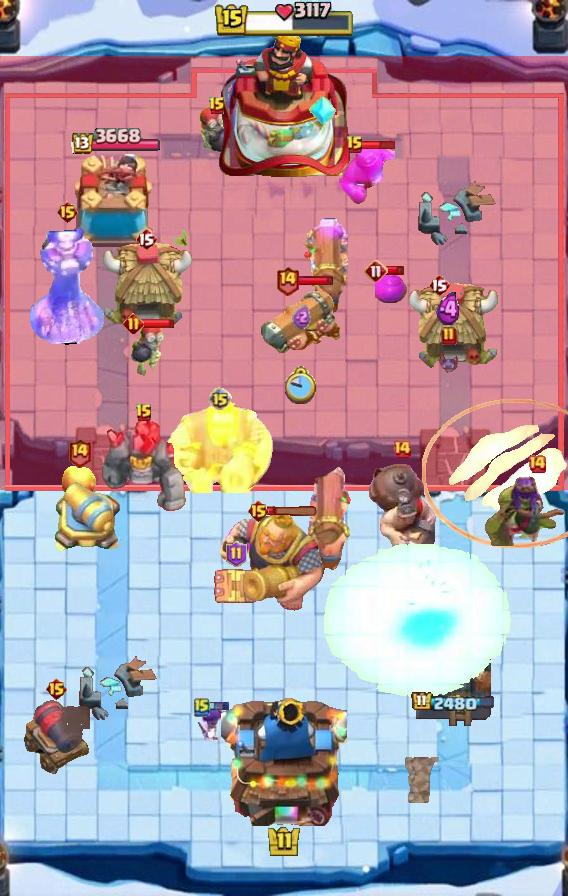barbarian-barrel: (437, 350, 461, 374)
barbarian-hut: (478, 474, 568, 546)
battle-healer: (261, 285, 341, 357), (306, 459, 354, 573), (303, 218, 349, 322)
cannoneer-tower: (101, 418, 187, 514)
clock: (213, 0, 355, 40)
electro-dragon: (28, 223, 106, 351)
electro-spirit: (436, 293, 462, 327), (292, 305, 312, 329)
elixir: (285, 366, 319, 404)
emote: (267, 507, 319, 518), (297, 274, 335, 286), (362, 139, 398, 151), (141, 318, 175, 329), (208, 700, 230, 711), (386, 264, 406, 275)
fisherman: (402, 757, 440, 803)
giant-skeleton: (215, 511, 328, 615), (165, 399, 275, 493)
goblin: (195, 703, 227, 743)
goblin-brawler: (212, 565, 260, 609)
hog: (62, 462, 96, 500)
ice-golem: (130, 323, 166, 377), (197, 106, 237, 154)
ice-wizard: (422, 399, 568, 549)
king-tower: (218, 27, 350, 181), (221, 690, 347, 826)
mega-knight: (319, 539, 516, 700)
miner: (375, 273, 407, 303)
pad_2: (309, 93, 337, 127)
prince: (99, 241, 193, 331), (408, 281, 502, 371)
queen-tower: (66, 154, 162, 256)
royal-giant-evolution: (22, 700, 90, 774)
royal-recruit: (52, 481, 126, 557)
selected: (68, 127, 159, 156), (412, 690, 497, 714)
text: (67, 436, 92, 467), (275, 265, 300, 295), (364, 259, 388, 283), (208, 387, 232, 411), (225, 541, 247, 567), (56, 200, 79, 224), (246, 499, 269, 523), (45, 677, 68, 701), (135, 227, 157, 251), (428, 273, 450, 297), (123, 313, 144, 335), (392, 439, 412, 459), (527, 454, 547, 474), (208, 96, 226, 116), (346, 135, 364, 155), (135, 403, 153, 423), (441, 326, 457, 346), (194, 697, 210, 717)
tornado: (339, 147, 395, 205)
tower-bar: (410, 611, 496, 731)
wizard: (367, 462, 437, 572)
